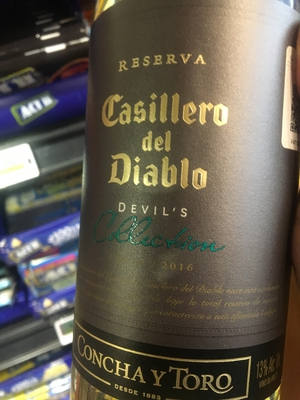casillero del diablo devils collection verde: (70, 1, 296, 383)
